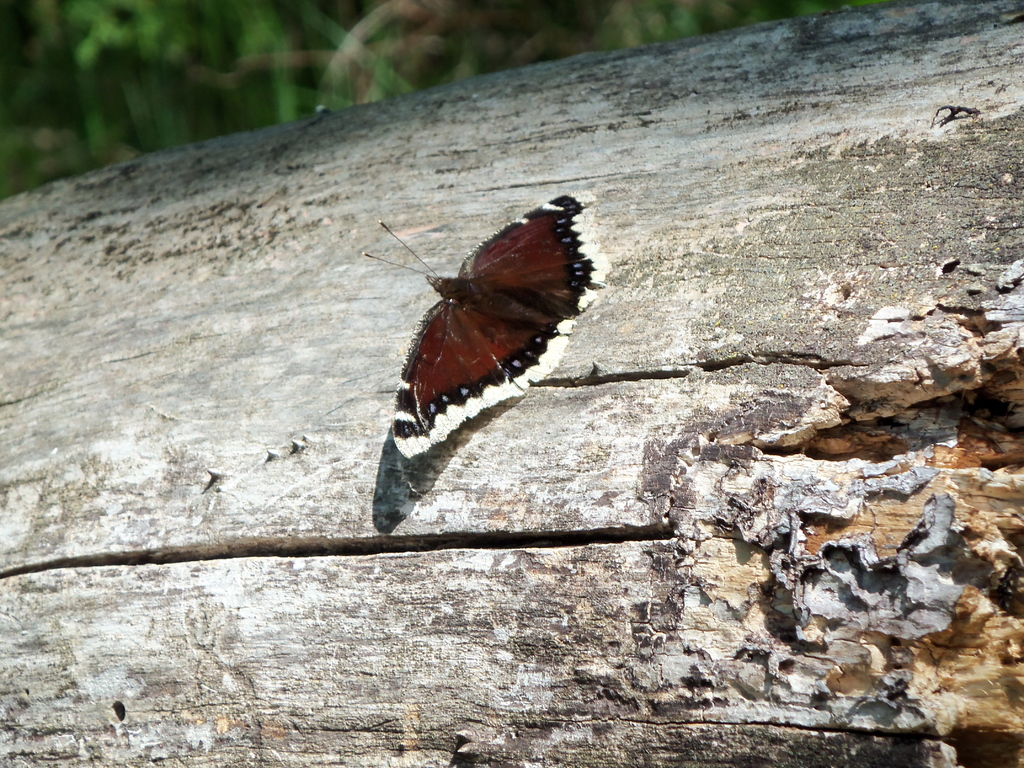Butterfly: (347, 185, 616, 461)
